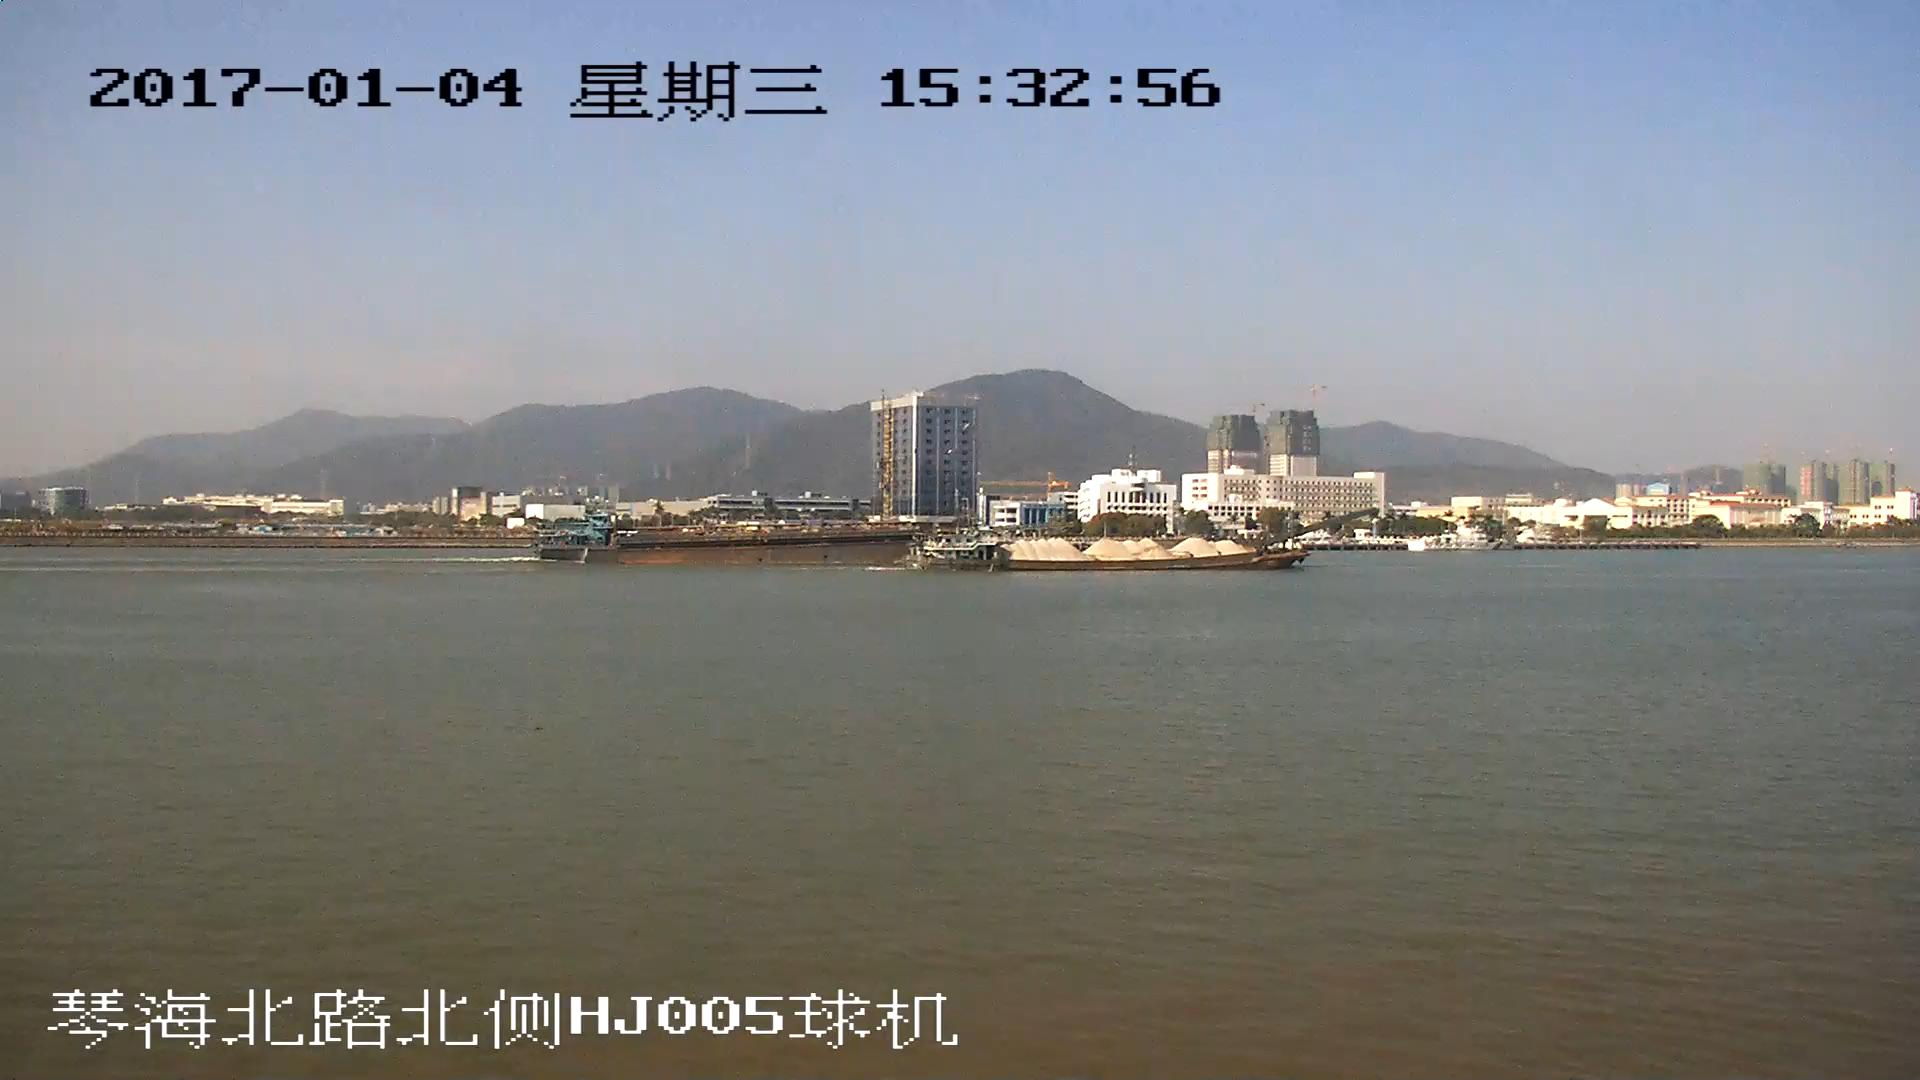bulk cargo carrier: (542, 518, 909, 566)
ore carrier: (918, 511, 1377, 572)
